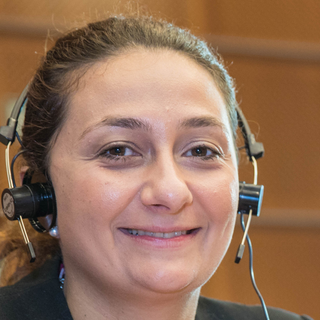eye: (93, 139, 145, 165), (178, 140, 225, 164)
